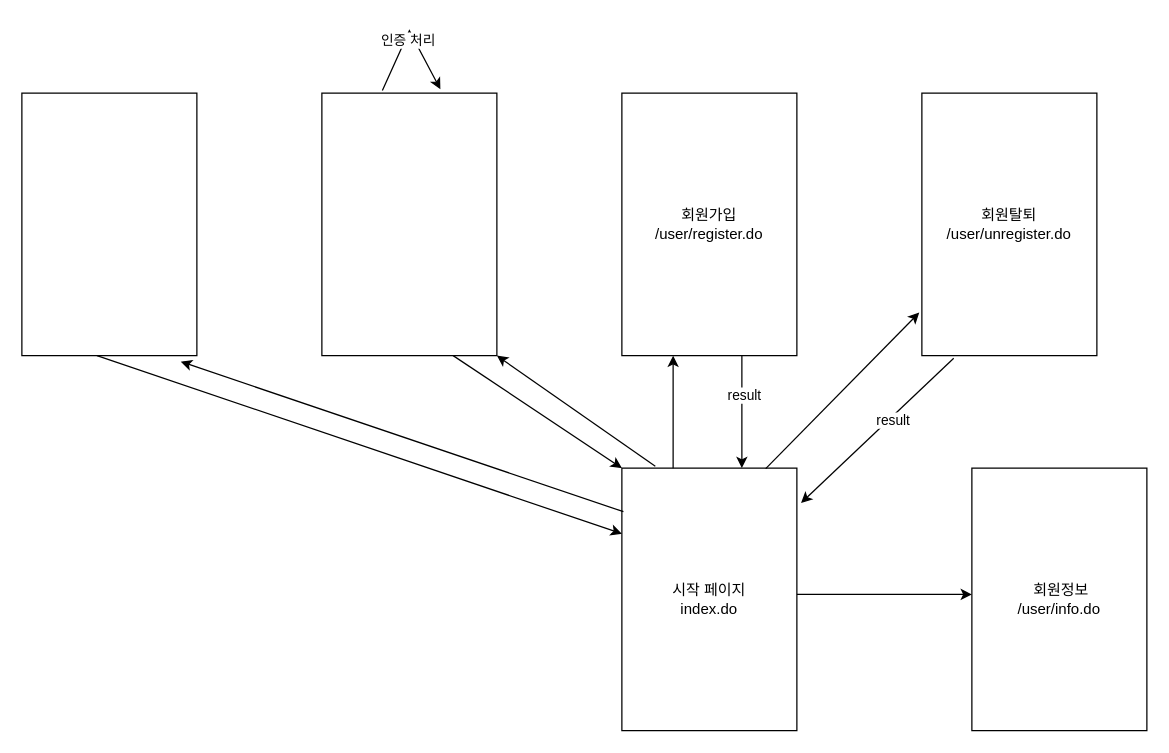
Image size: 1169x753. Some labels were removed from this diagram. The box of each missing label's shape, as (x1, y1, x2, y2) in pixels:
로그아웃 /user/logout.do: (21, 92, 197, 356)
로그인 /user/login.do: (321, 92, 497, 356)
